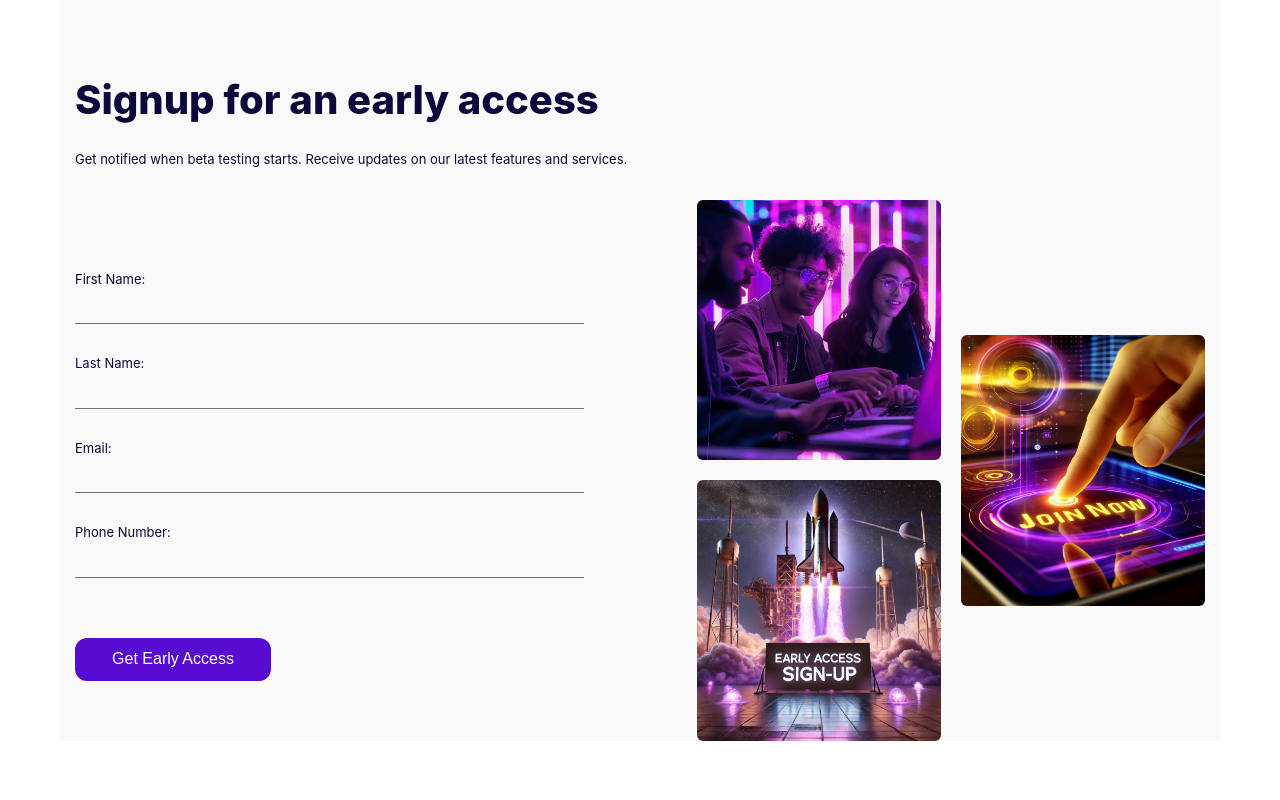
Contact Component › shows error message on submission failure
In the field labelled "First Name:": coordinates (329, 309) [75,294,584,324], type "John"
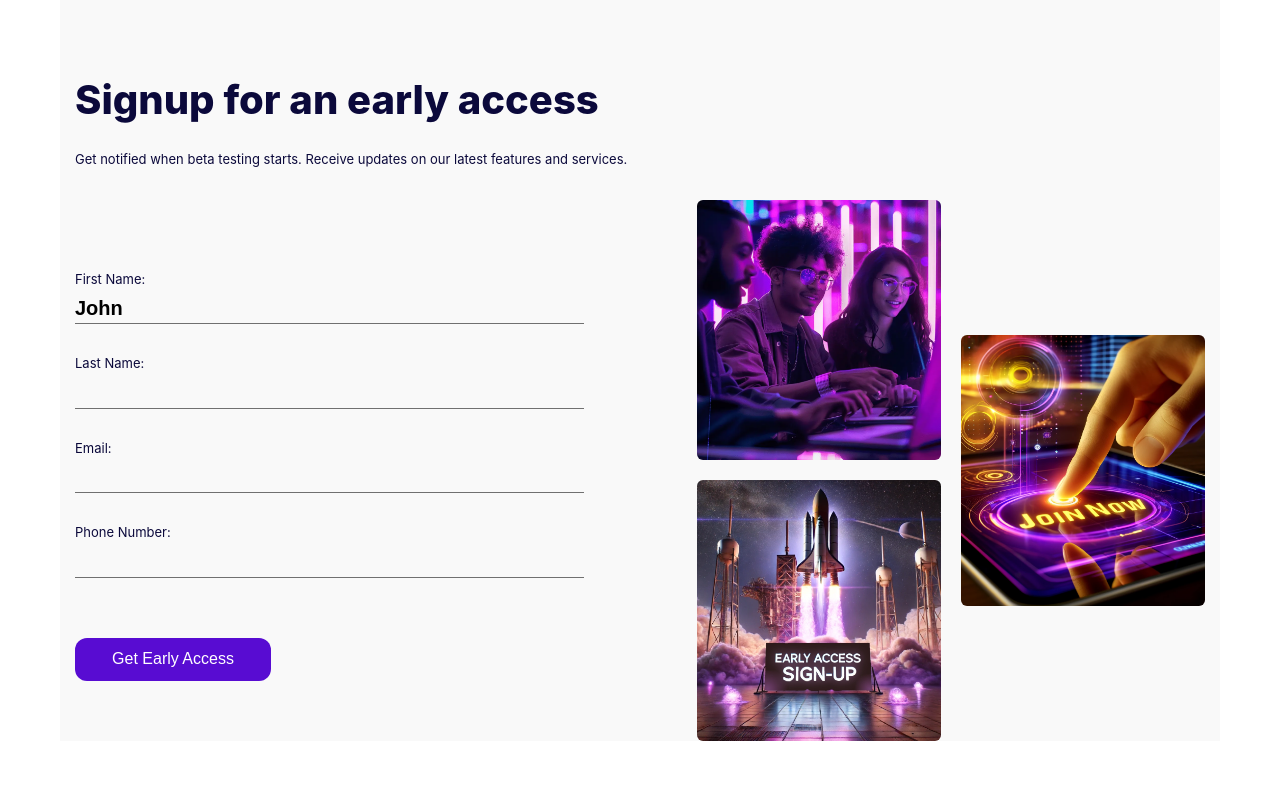
In the field labelled "Last Name:": coordinates (329, 394) [75,378,584,408], type "Doe"
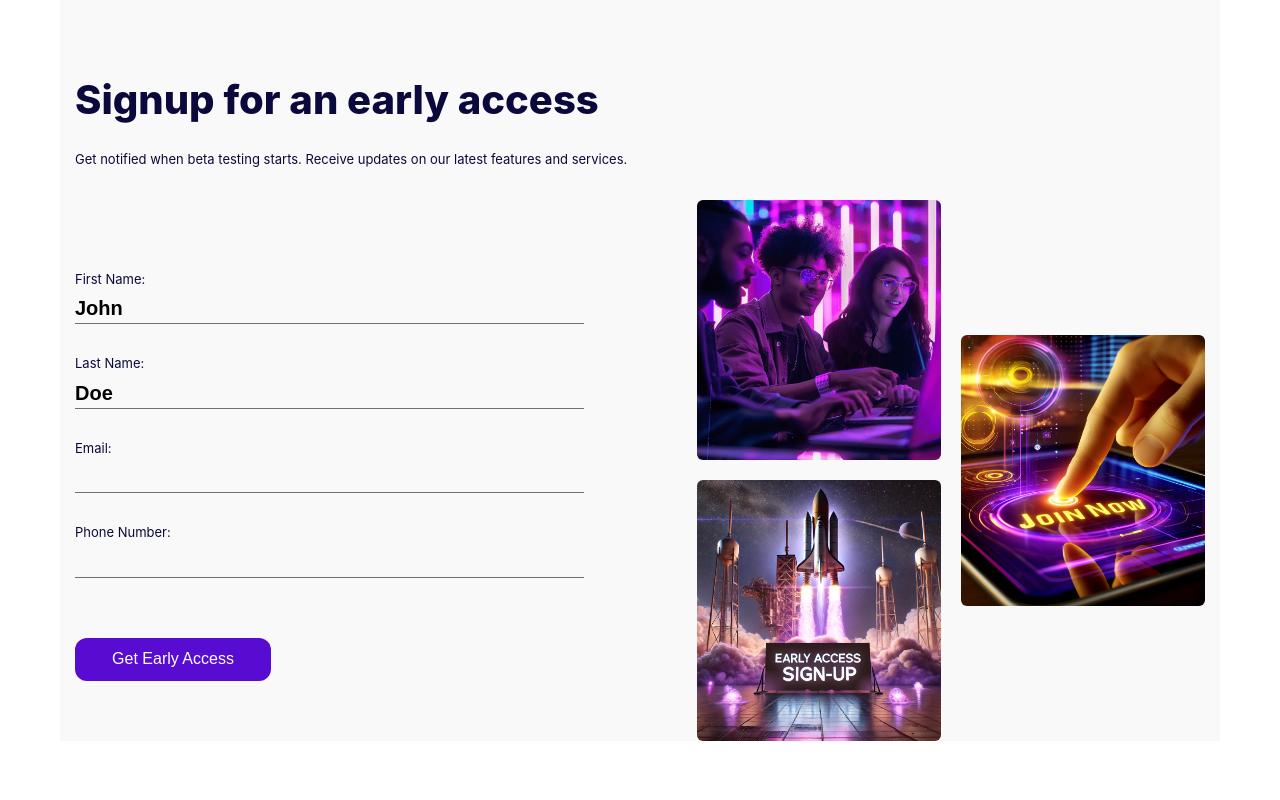
In the field labelled "Email:": coordinates (329, 478) [75,463,584,493], type "john@example.com"
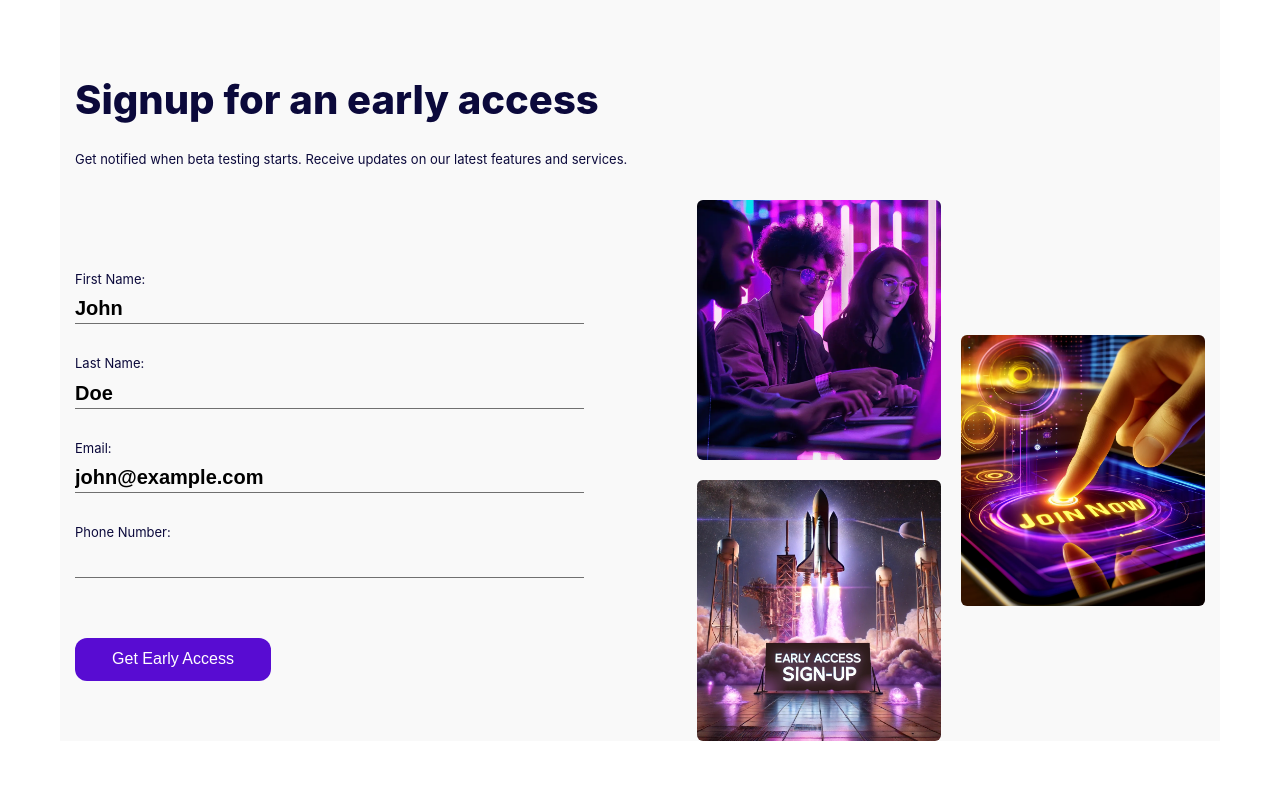
In the field labelled "Phone Number:": coordinates (329, 562) [75,548,584,578], type "1234567890"
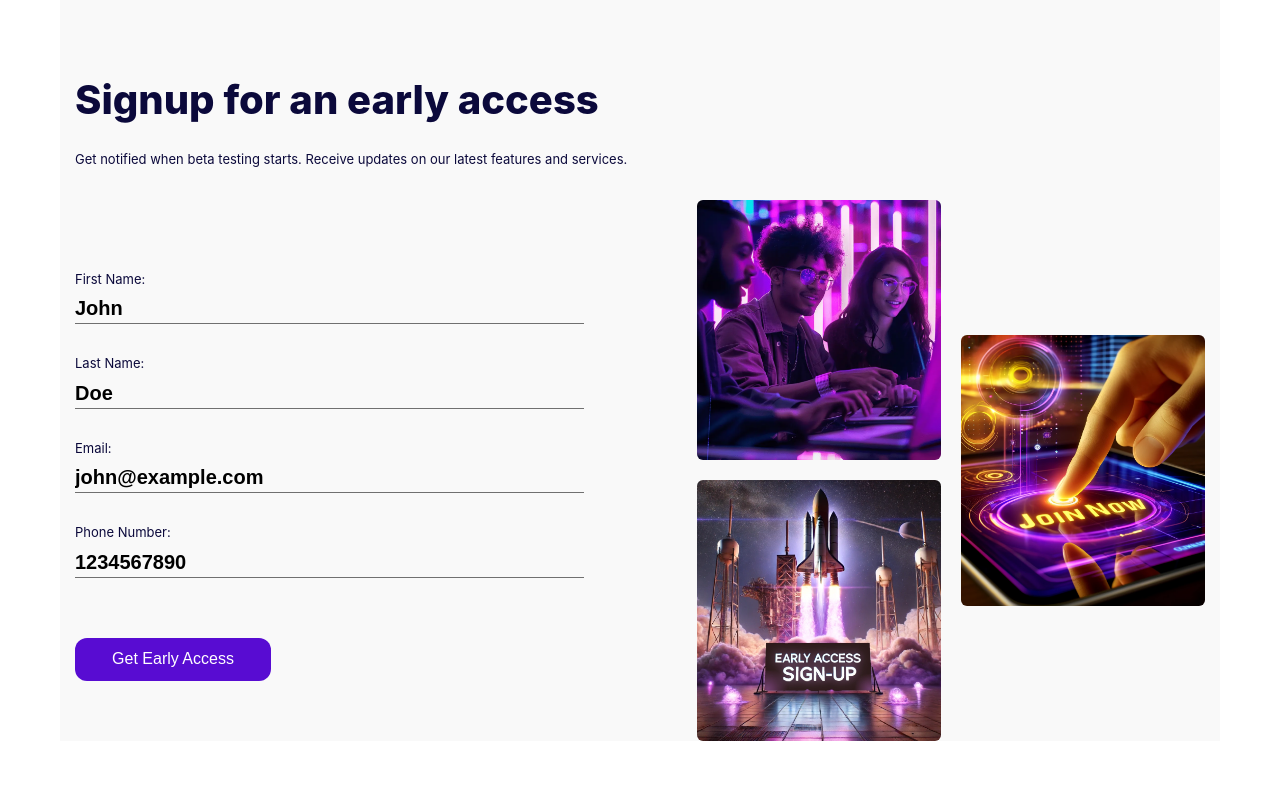
Click the button "Get Early Access": coordinates (173, 659) [75,638,271,681]
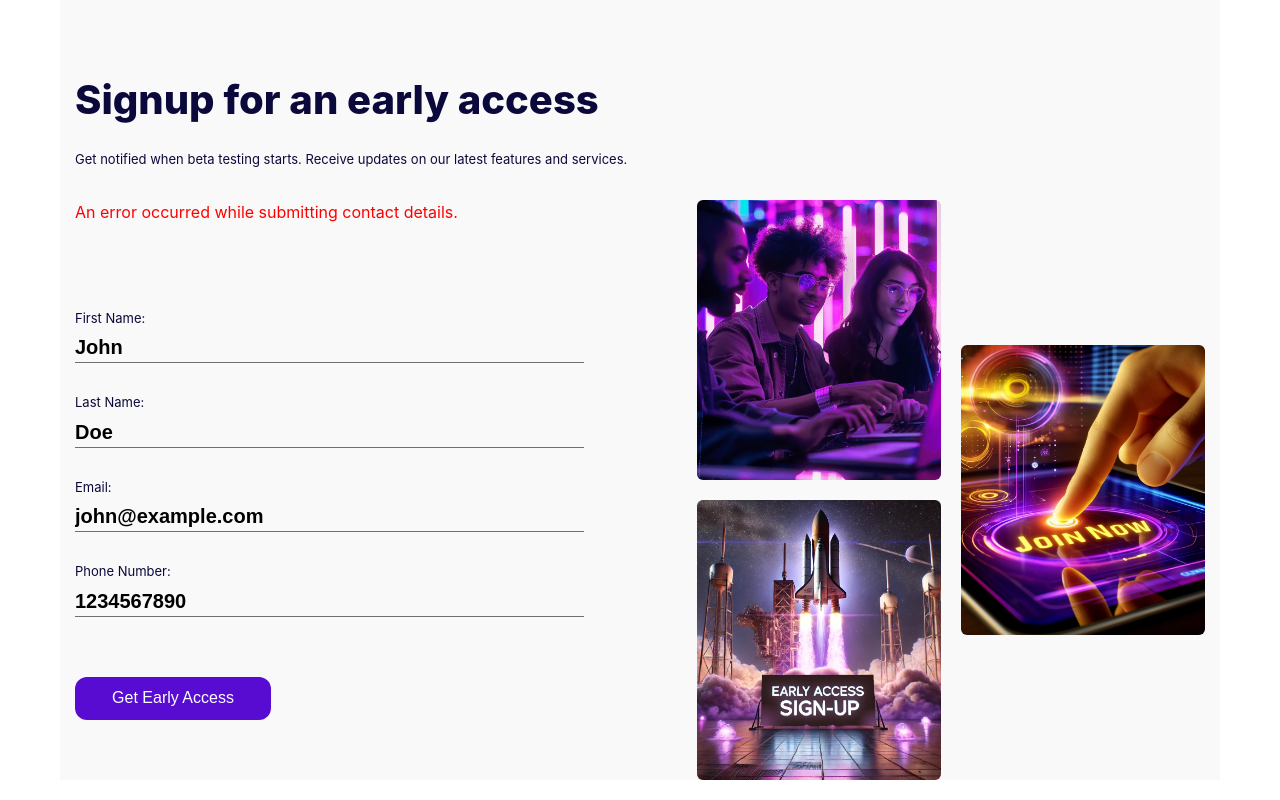
Check: the text "An error occurred while submitting contact details." is shown, box [75,202,458,222]
